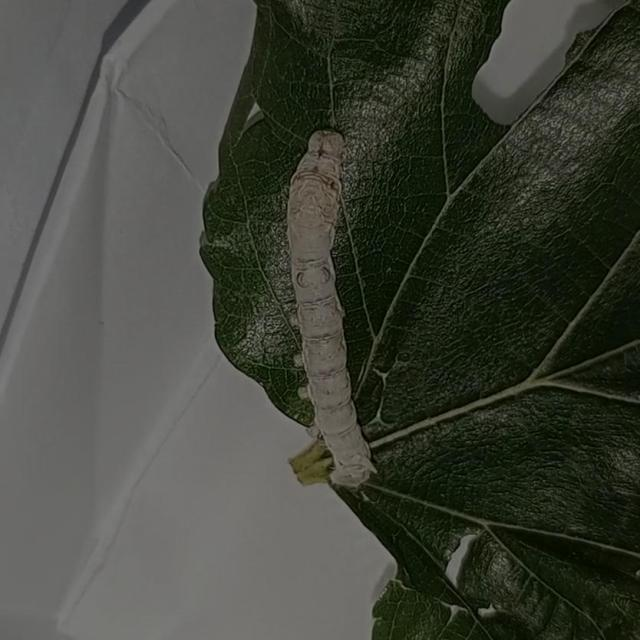Healthy: (269, 126, 395, 499)
